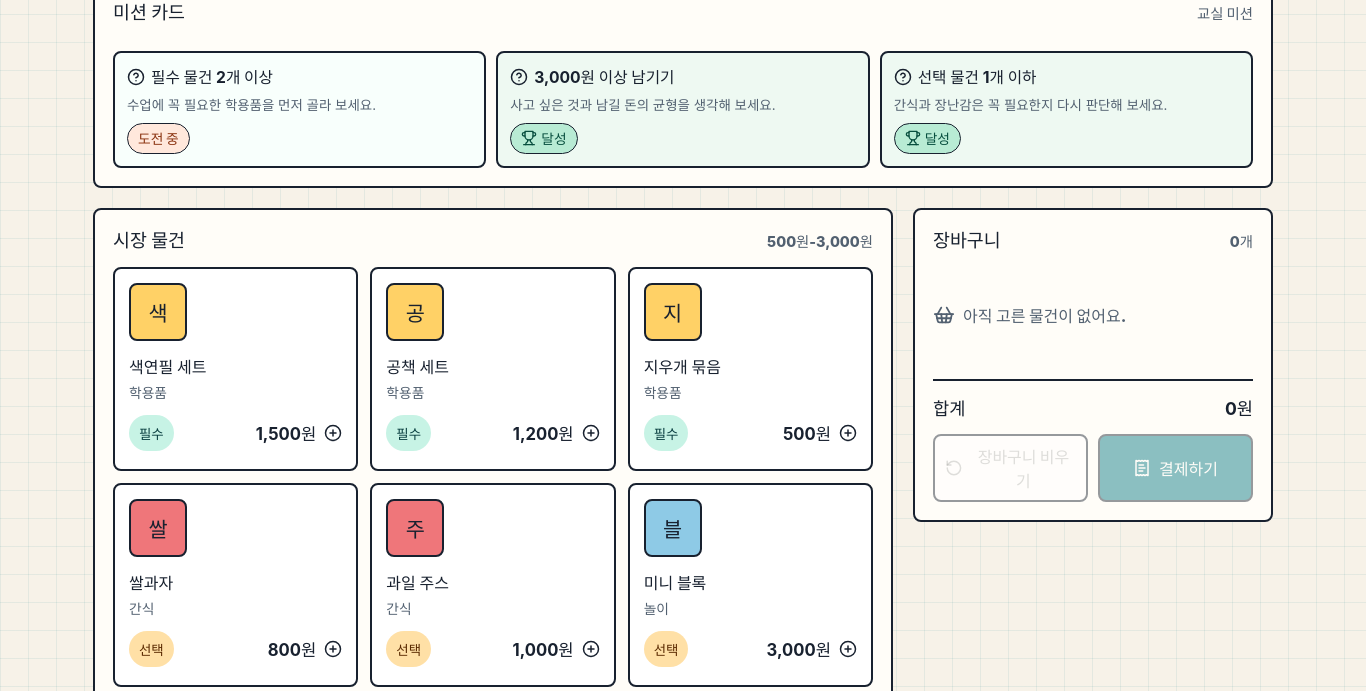
it: Smart Flea Market Simulator › opens a rational-consumption reflection after checkout
(page scrolled)
Click the button with aria-label "색연필 세트 학용품 필수 1,500원 담기".
click(236, 369)  # box [113,267,358,471]
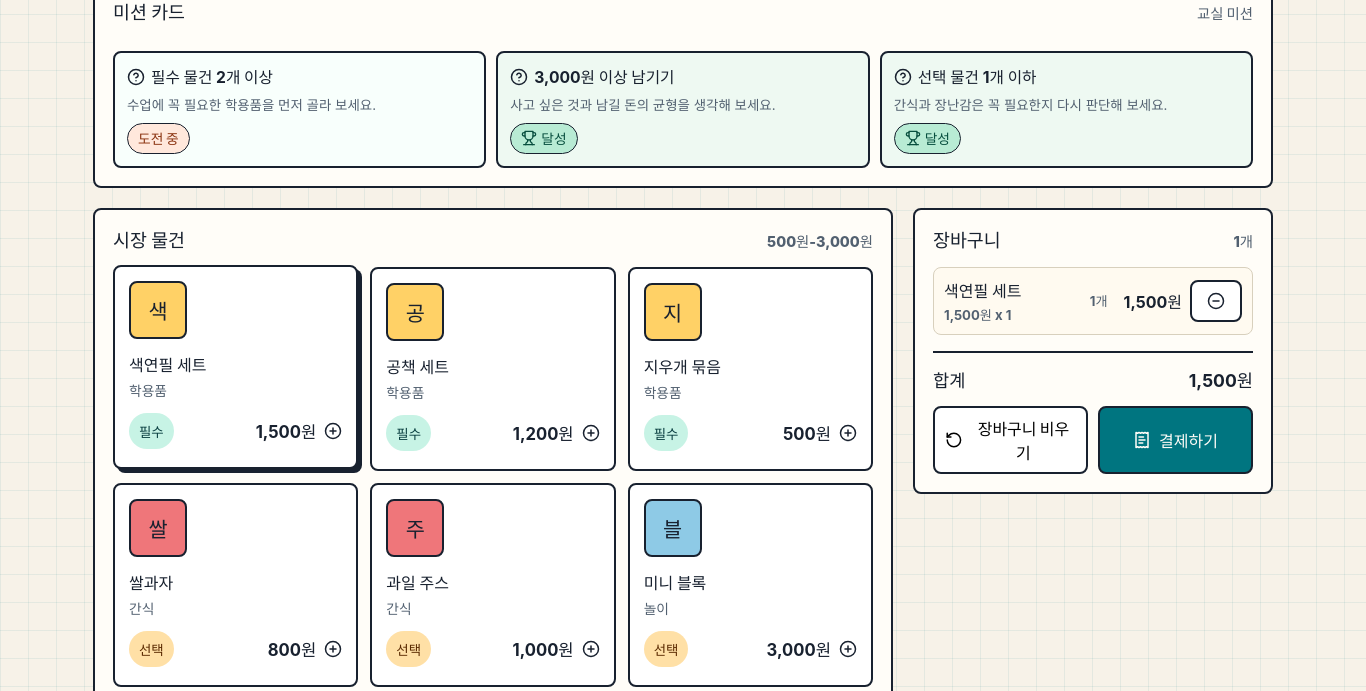
Click the button with aria-label "쌀과자 간식 선택 800원 담기".
click(236, 585)  # box [113,483,358,687]
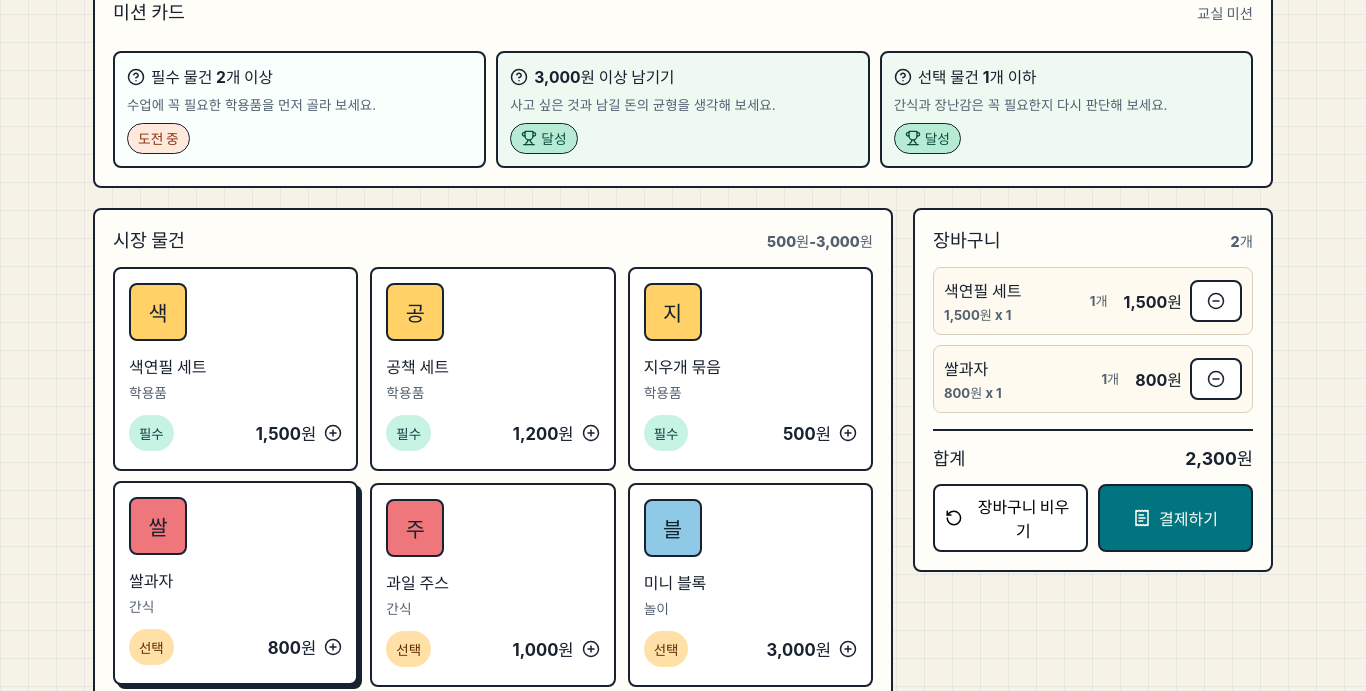
Click the button "결제하기".
click(1176, 518)  # box [1098,484,1253,552]
(page scrolled)
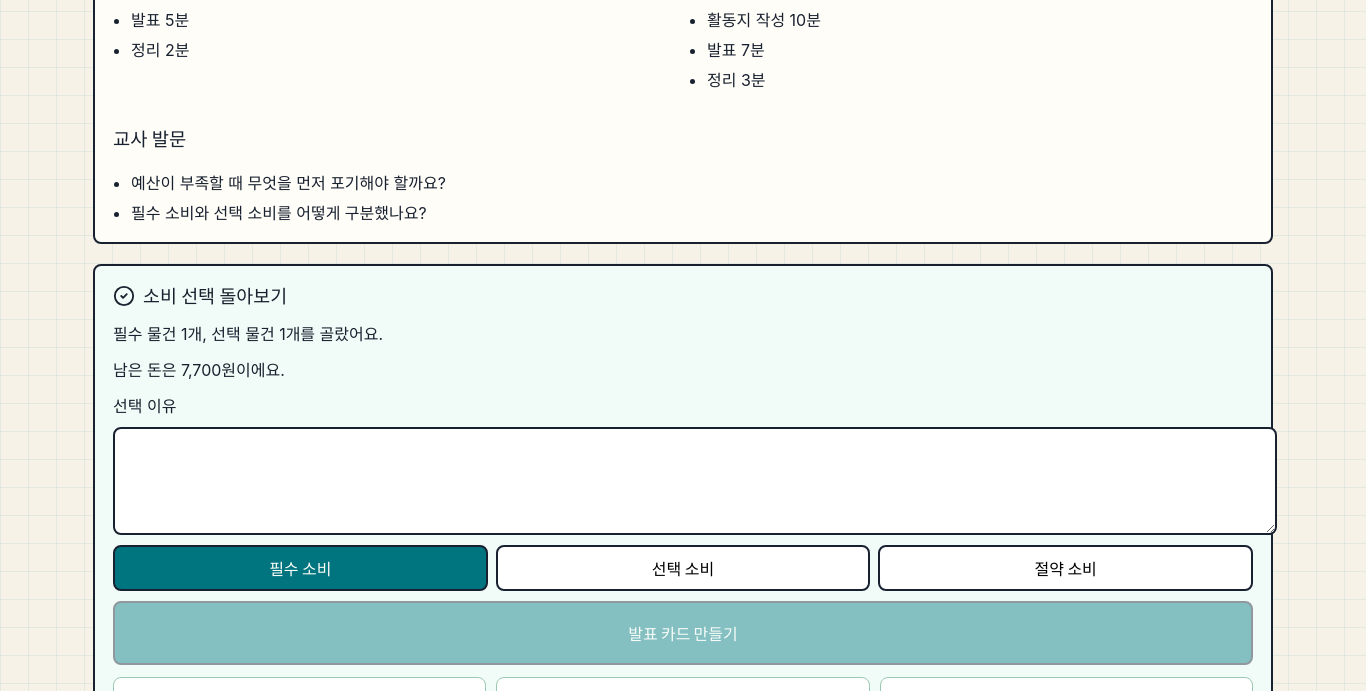
Expected: the text "필수 물건 1개, 선택 물건 1개를 골랐어요." is shown, [113,324,383,344]
Expected: the text "남은 돈은 7,700원이에요." is shown, [113,360,285,380]
